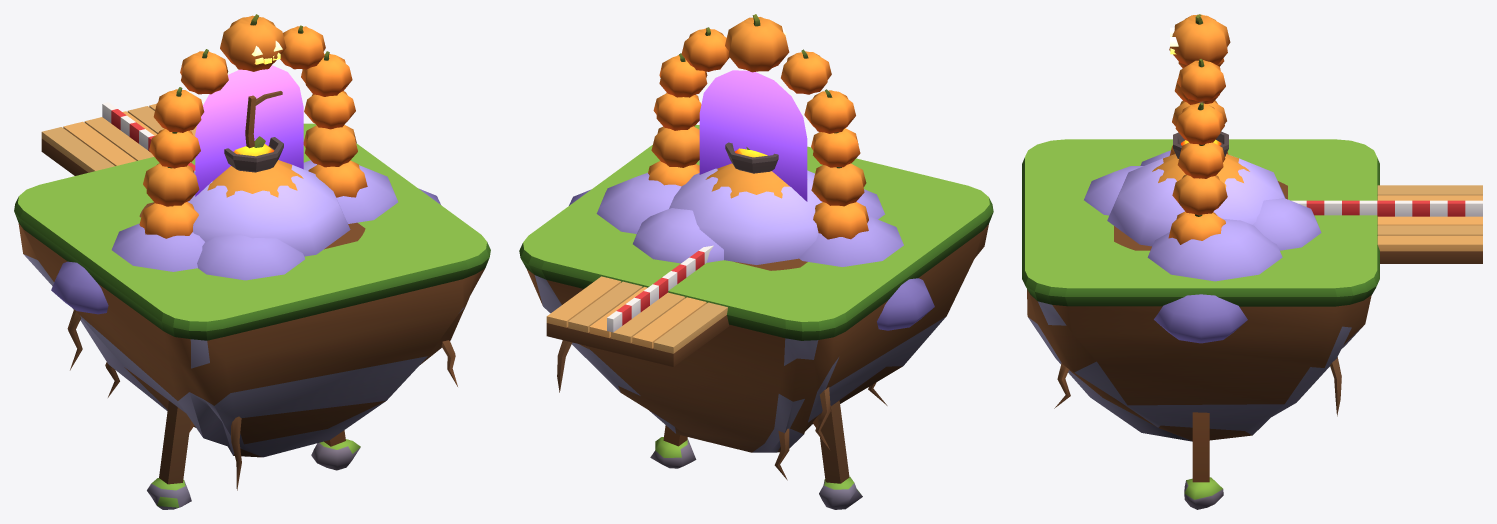
File: SlimeBowl_Kit.fbx
3 renders of one model, left to right at view 1: azimuth 30°, elevation 25°; view 2: azimuth 150°, elevation 25°; view 3: azimuth 270°, elevation 25°, orthographic. The views are drawn at different scales.
Parts seen in each view (by area): view 1: SlimeBowl_Kit_Island, SlimeBowl_Kit_Pumpkin_Arch, SlimeBowl_Kit_Cloud_Puff, SlimeBowl_Kit_Lane_4m, SlimeBowl_Kit_Trestle, SlimeBowl_Kit_Boss_Pumpkin, SlimeBowl_Kit_Brazier, SlimeBowl_Kit_Rail_4m, SlimeBowl_Kit_Lantern_Post; view 2: SlimeBowl_Kit_Island, SlimeBowl_Kit_Pumpkin_Arch, SlimeBowl_Kit_Cloud_Puff, SlimeBowl_Kit_Lane_4m, SlimeBowl_Kit_Trestle, SlimeBowl_Kit_Rail_4m, SlimeBowl_Kit_Boss_Pumpkin, SlimeBowl_Kit_Brazier; view 3: SlimeBowl_Kit_Island, SlimeBowl_Kit_Cloud_Puff, SlimeBowl_Kit_Pumpkin_Arch, SlimeBowl_Kit_Lane_4m, SlimeBowl_Kit_Rail_4m, SlimeBowl_Kit_Trestle, SlimeBowl_Kit_Boss_Pumpkin.
Part boxes in pixels (left/top/right/bottom): SlimeBowl_Kit_Island: left=14, top=123, right=490, bottom=490; SlimeBowl_Kit_Pumpkin_Arch: left=139, top=14, right=367, bottom=238; SlimeBowl_Kit_Cloud_Puff: left=51, top=160, right=440, bottom=314; SlimeBowl_Kit_Lane_4m: left=41, top=103, right=196, bottom=175; SlimeBowl_Kit_Trestle: left=147, top=401, right=360, bottom=509; SlimeBowl_Kit_Boss_Pumpkin: left=207, top=136, right=303, bottom=197; SlimeBowl_Kit_Brazier: left=224, top=137, right=283, bottom=172; SlimeBowl_Kit_Rail_4m: left=102, top=102, right=195, bottom=171; SlimeBowl_Kit_Lantern_Post: left=245, top=91, right=282, bottom=148; SlimeBowl_Kit_Island: left=519, top=125, right=993, bottom=480; SlimeBowl_Kit_Pumpkin_Arch: left=648, top=14, right=868, bottom=239; SlimeBowl_Kit_Cloud_Puff: left=569, top=168, right=934, bottom=330; SlimeBowl_Kit_Lane_4m: left=546, top=276, right=728, bottom=366; SlimeBowl_Kit_Trestle: left=650, top=400, right=862, bottom=509; SlimeBowl_Kit_Rail_4m: left=607, top=245, right=713, bottom=332; SlimeBowl_Kit_Boss_Pumpkin: left=705, top=147, right=789, bottom=198; SlimeBowl_Kit_Brazier: left=725, top=142, right=778, bottom=173; SlimeBowl_Kit_Island: left=1022, top=139, right=1379, bottom=441; SlimeBowl_Kit_Cloud_Puff: left=1084, top=150, right=1321, bottom=343; SlimeBowl_Kit_Pumpkin_Arch: left=1168, top=14, right=1230, bottom=244; SlimeBowl_Kit_Lane_4m: left=1377, top=185, right=1482, bottom=263; SlimeBowl_Kit_Rail_4m: left=1291, top=200, right=1482, bottom=216; SlimeBowl_Kit_Trestle: left=1184, top=412, right=1223, bottom=509; SlimeBowl_Kit_Boss_Pumpkin: left=1152, top=154, right=1249, bottom=188.
Size of the model in its own units: 5.86 by 7.11 by 6.54.
